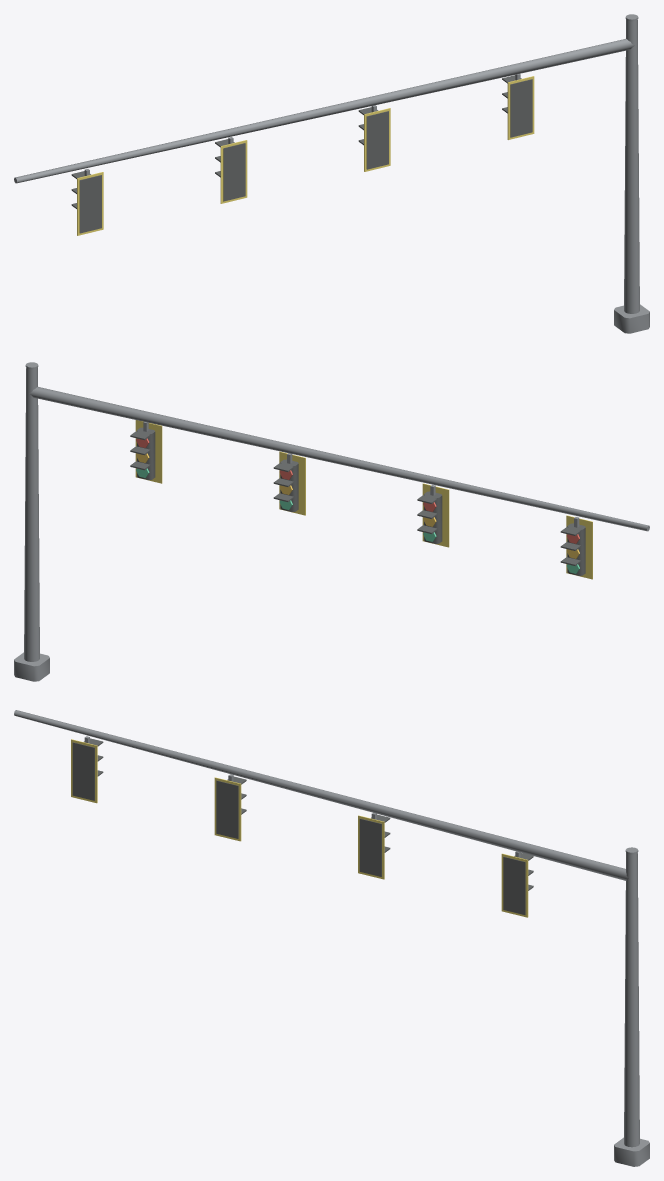
The model's file is signal-4.glb.
3 renders of one model, top to bottom at view 1: azimuth 30°, elevation 25°; view 2: azimuth 150°, elevation 25°; view 3: azimuth 330°, elevation 25°, orthographic.
Parts seen in each view (by area): view 1: signal-4; view 2: signal-4; view 3: signal-4.
Boxes of the visible parts, left/top/right/bottom form: signal-4: left=14, top=14, right=649, bottom=333; signal-4: left=14, top=362, right=649, bottom=681; signal-4: left=14, top=710, right=649, bottom=1166.
Size of the model in its own units: 2.13 by 1 by 0.0936.
